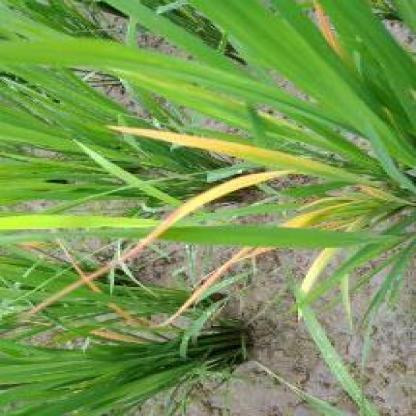Tungro: (1, 174, 279, 331), (90, 123, 391, 197)
